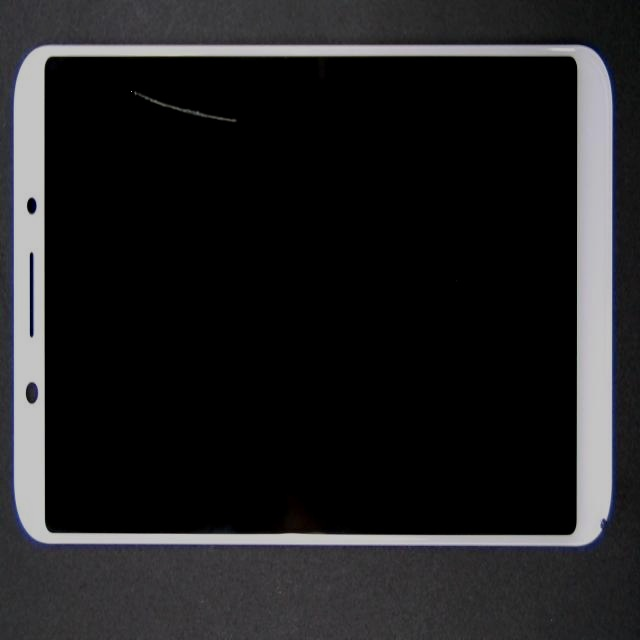scratch: (75, 14, 189, 129)
